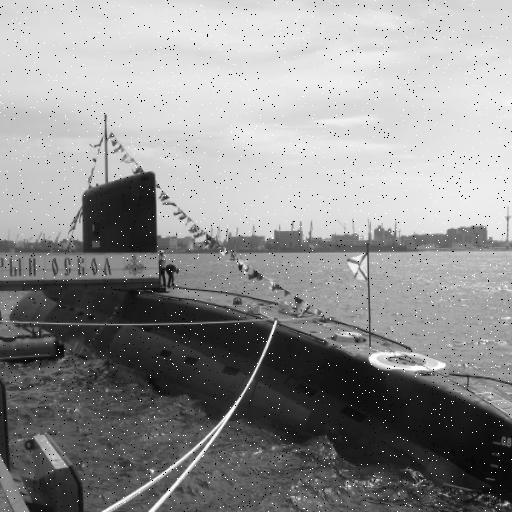submarine: (11, 171, 512, 510)
